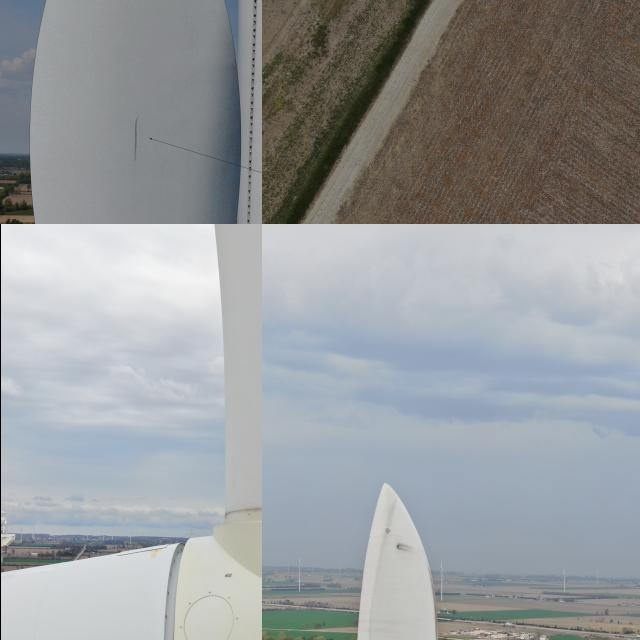damage: (126, 105, 152, 172), (396, 541, 400, 549)
